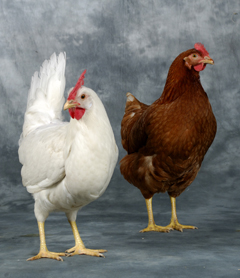Healthy: (163, 35, 219, 91), (60, 68, 108, 128)
